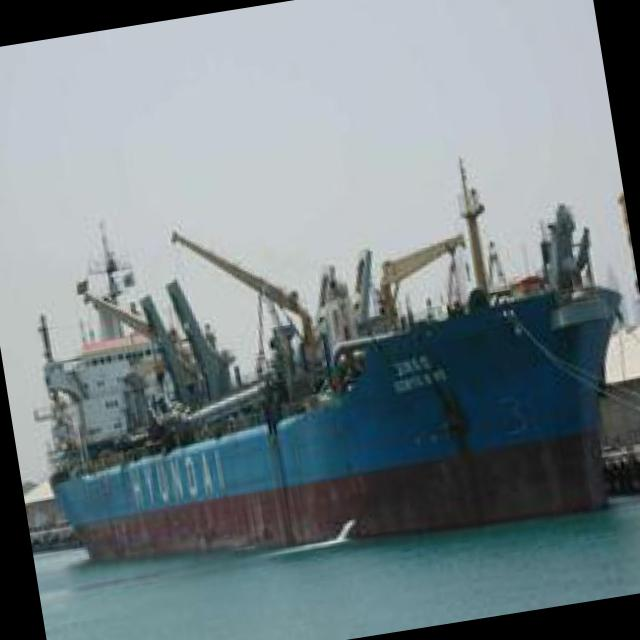boat: (13, 196, 640, 608)
